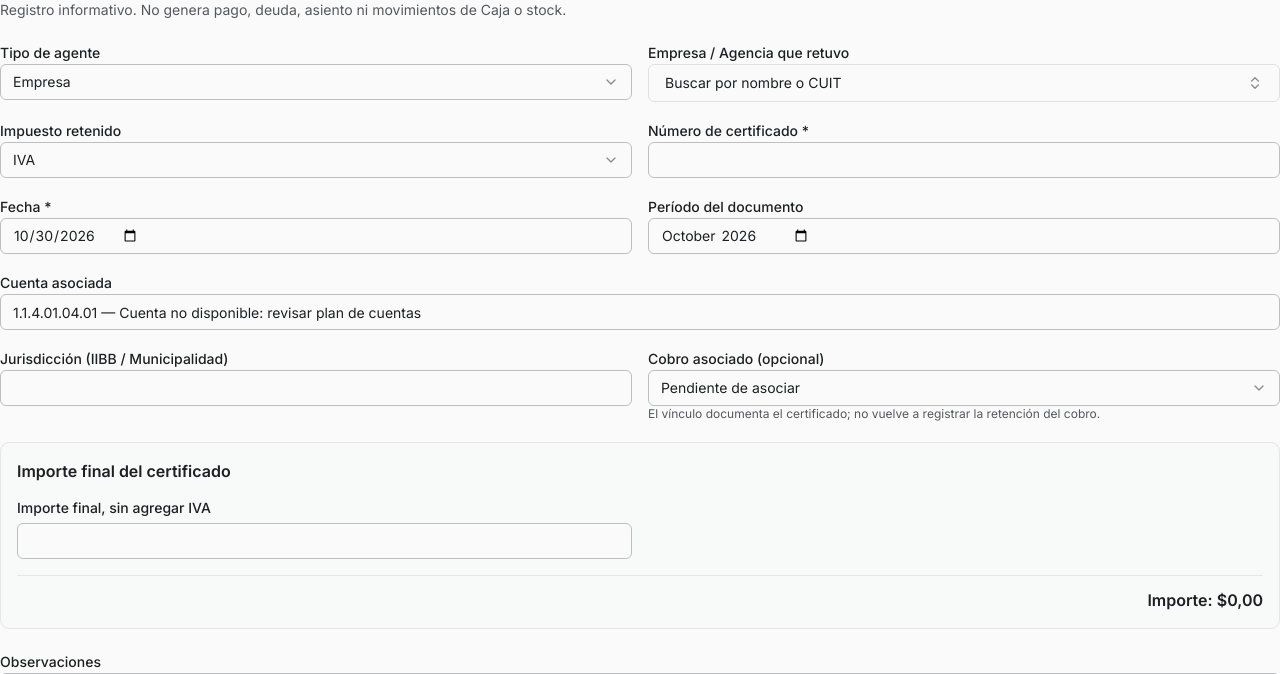
Scenario: Emisor por CUIT en comprobantes de compras › filtra RETENCION por CUIT y conserva la entidad seleccionada
Click the dropdown named "Empresa / Agencia que retuvo".
click(753, 82)  # box [648,64,1279,102]
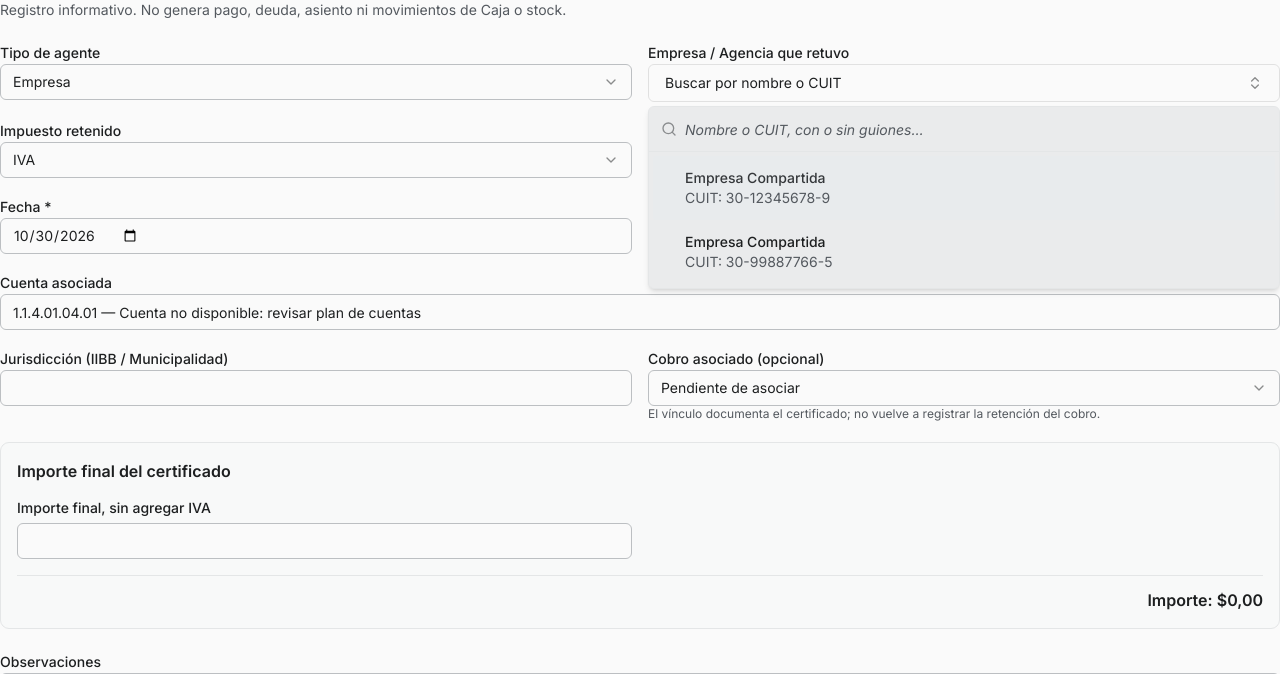
Type "30123456789" into the dropdown with placeholder "Nombre o CUIT, con o sin guiones…".
click(976, 129); type("30123456789")  # box [685,107,1267,151]
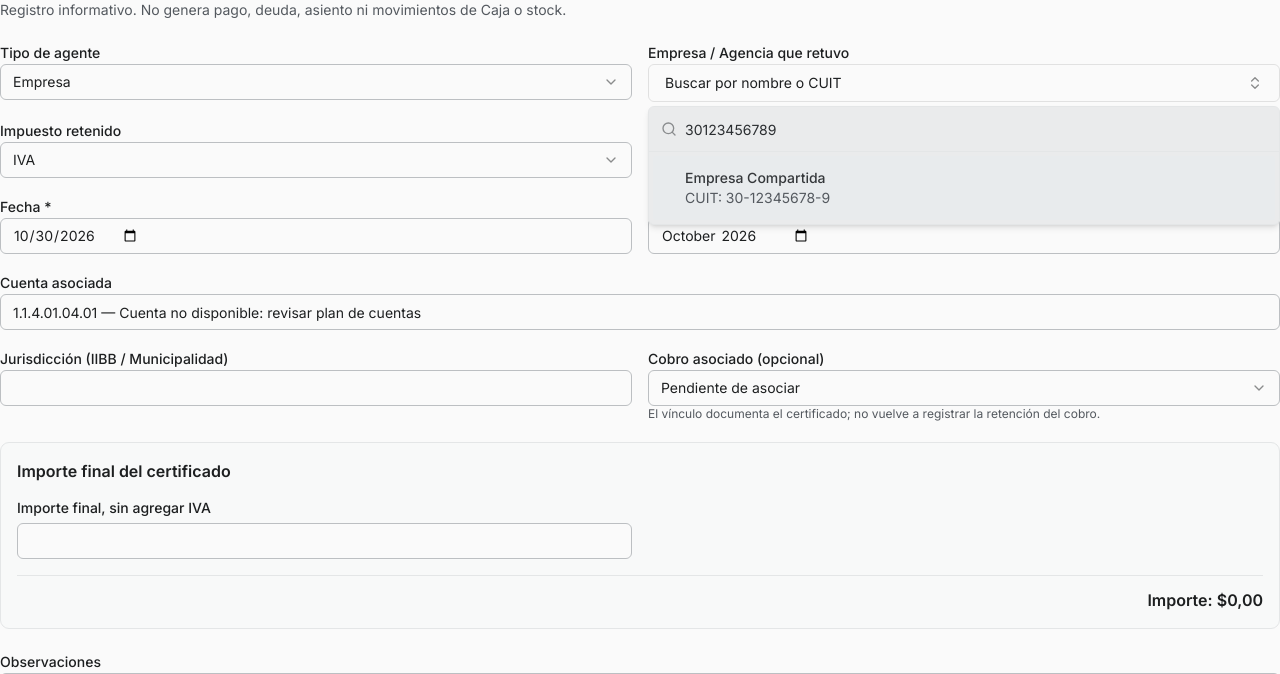
Check: the number of options is 1, box [653,156,1275,220]
Check: the option shows "Empresa Compartida", box [653,156,1275,220]
Press Arrowdown Enter
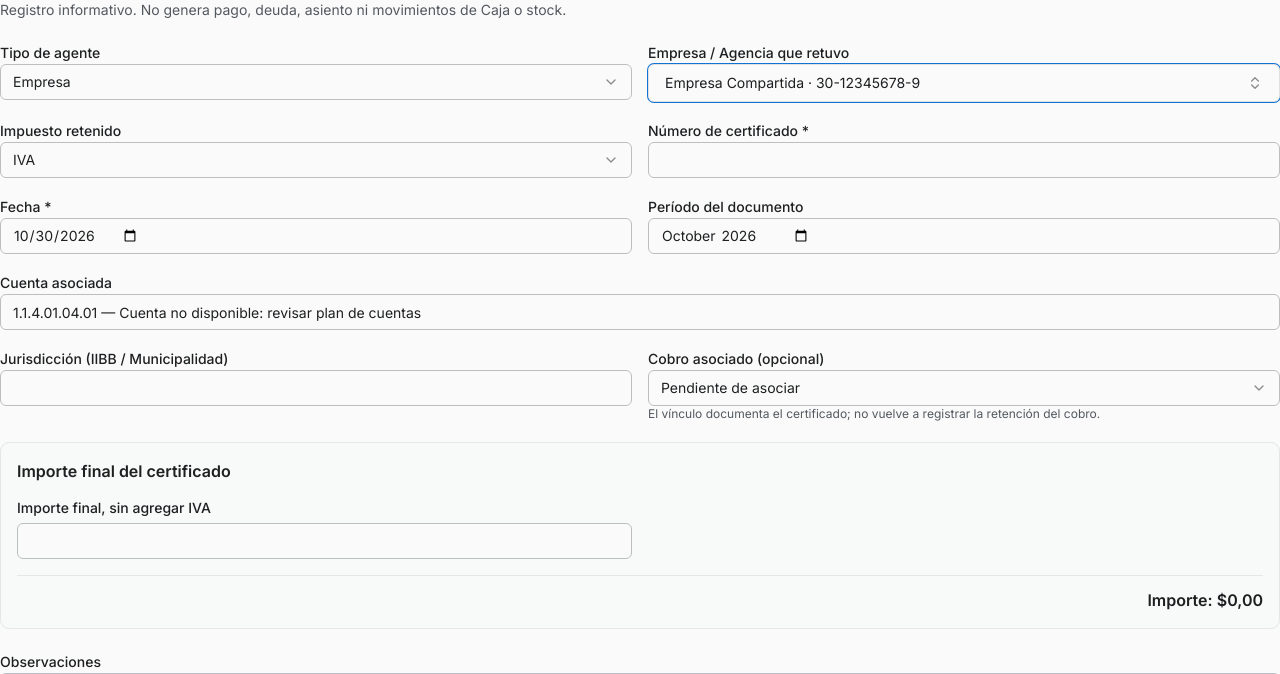
Check: the dropdown named "Empresa / Agencia que retuvo" shows "Empresa Compartida", box [648,64,1279,102]
Check: the option is gone
